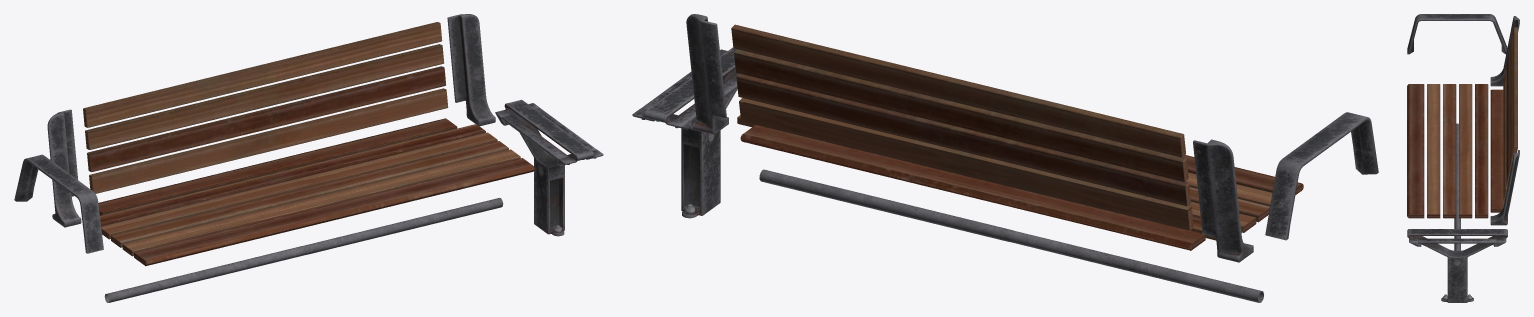
The model's file is modular_street_seating.glb.
3 renders of one model, left to right at view 1: azimuth 30°, elevation 25°; view 2: azimuth 150°, elevation 25°; view 3: azimuth 270°, elevation 25°, orthographic. The views are drawn at different scales.
Parts seen in each view (by area): view 1: seat_back, seat, legs_double, crossbar, back_support_l, arm_rest_01, back_support_r; view 2: seat_back, seat, crossbar, legs_double, arm_rest_01, back_support_r, back_support_l; view 3: seat, legs_double, seat_back, arm_rest_01, back_support_l, crossbar, back_support_r.
Part boxes in pixels (<box>): seat_back: <box>83,22,448,193</box>; seat: <box>98,118,534,266</box>; legs_double: <box>495,99,603,236</box>; crossbar: <box>104,198,503,302</box>; back_support_l: <box>447,14,495,126</box>; arm_rest_01: <box>14,154,103,253</box>; back_support_r: <box>47,109,81,227</box>; seat_back: <box>731,24,1193,230</box>; seat: <box>737,115,1303,250</box>; crossbar: <box>759,169,1263,302</box>; legs_double: <box>632,47,739,218</box>; arm_rest_01: <box>1265,112,1378,240</box>; back_support_r: <box>1193,139,1253,262</box>; back_support_l: <box>686,14,728,134</box>; seat: <box>1407,84,1504,218</box>; legs_double: <box>1407,229,1507,302</box>; seat_back: <box>1503,27,1517,200</box>; arm_rest_01: <box>1407,14,1507,54</box>; back_support_l: <box>1490,150,1519,225</box>; crossbar: <box>1454,123,1460,250</box>; back_support_r: <box>1490,16,1519,86</box>.
Bounding box in the file's own units: 2.45 × 0.8669 × 0.6711.
4 materials, 4 textured.
